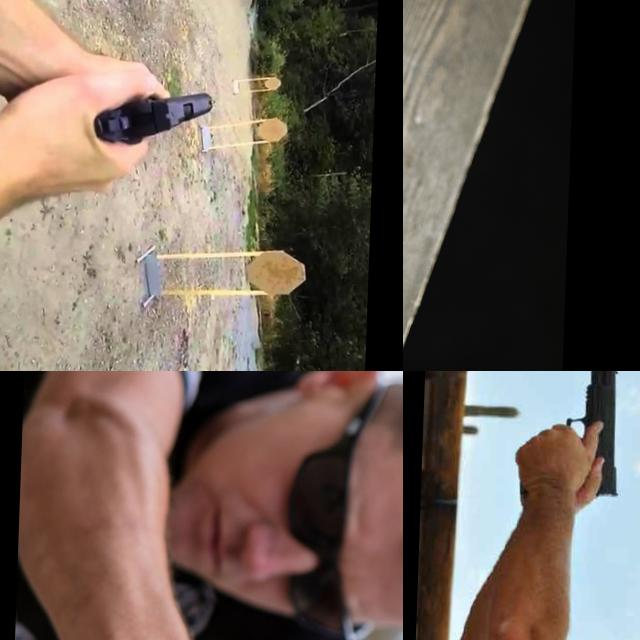handgun: (403, 0, 493, 115), (84, 84, 221, 154), (561, 371, 624, 501)
